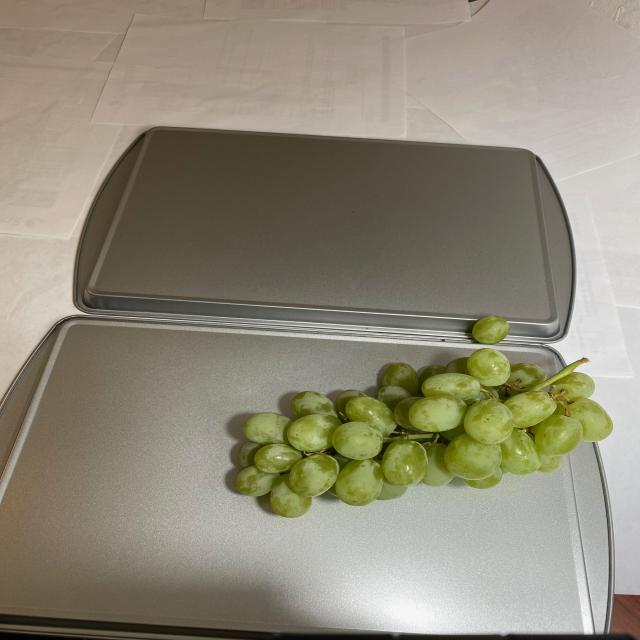grapes: (232, 353, 614, 514), (470, 314, 510, 347)
